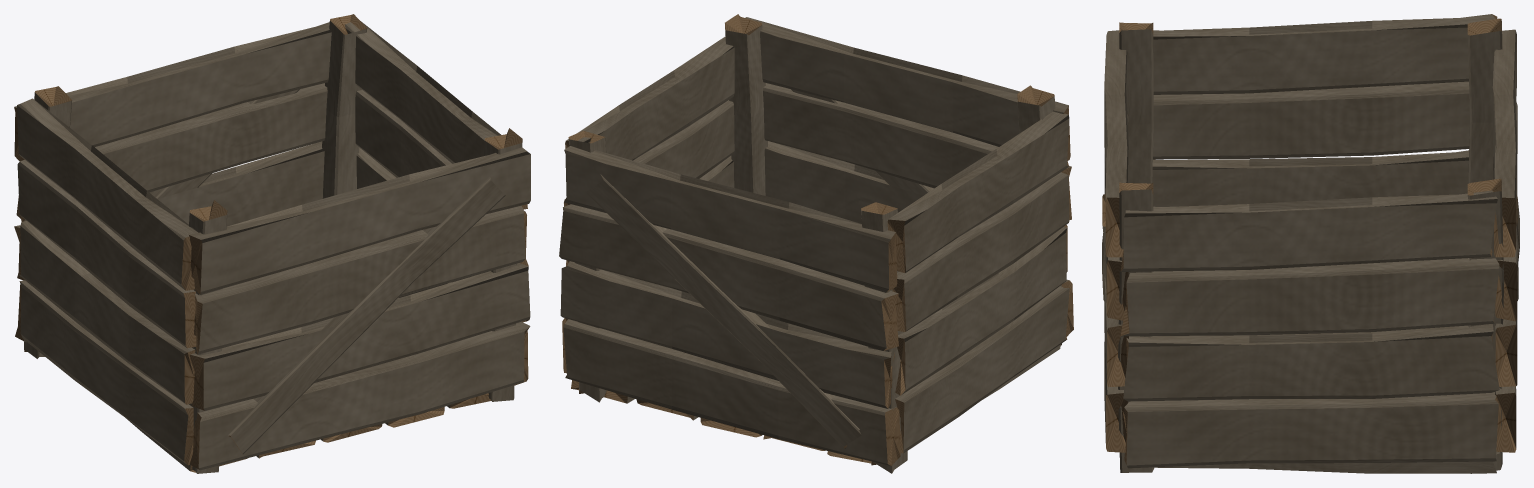
Rendered from crate_intact.fbx.
The picture shows the model from 3 angles, left to right: view 1: azimuth 30°, elevation 25°; view 2: azimuth 150°, elevation 25°; view 3: azimuth 270°, elevation 25°; orthographic projection. The views are drawn at different scales.
Visible parts, largest first — view 1: crate_intact; view 2: crate_intact; view 3: crate_intact.
Boxes of the visible parts, x1,y1,x2,y2 form: crate_intact: [14, 14, 530, 473]; crate_intact: [559, 14, 1073, 473]; crate_intact: [1102, 14, 1519, 473].
Size of what is drawn, in the model's own units: 0.911 by 0.6587 by 0.8604.
1 material, 1 textured.
